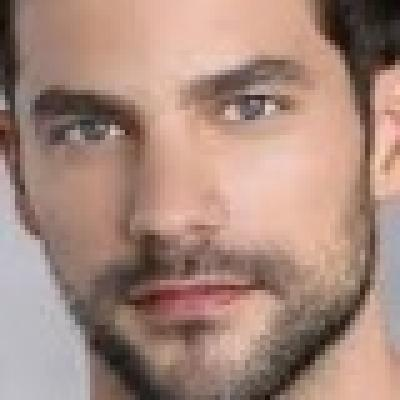netural: (18, 8, 375, 370)
